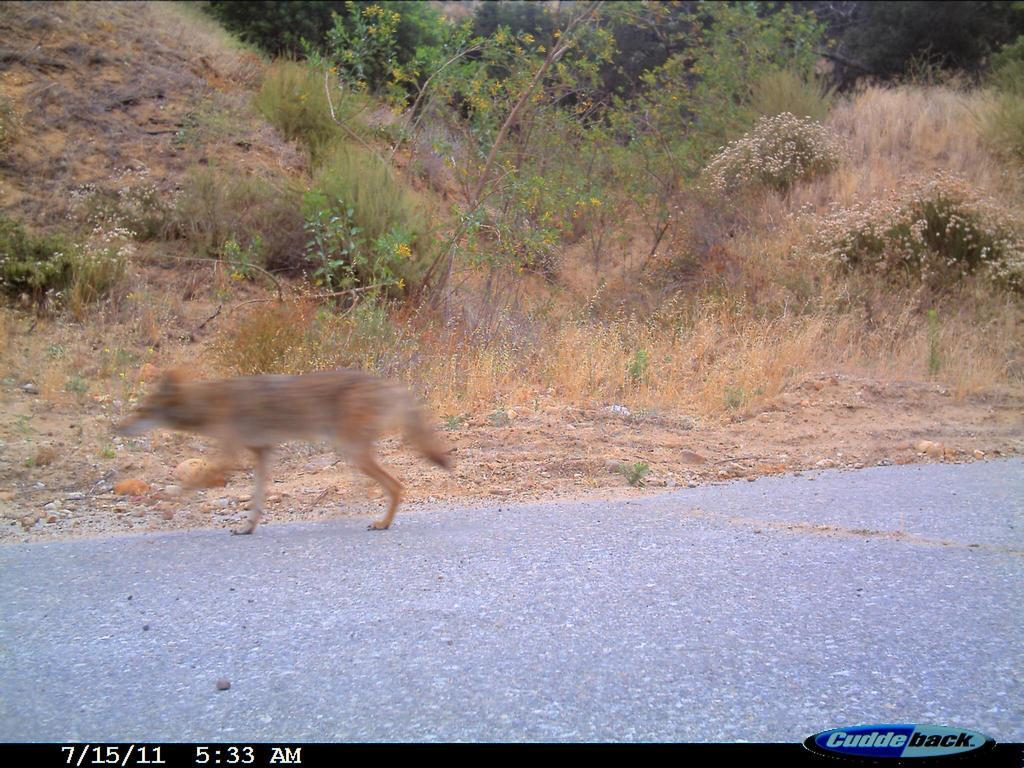coyote: (111, 360, 459, 537)
